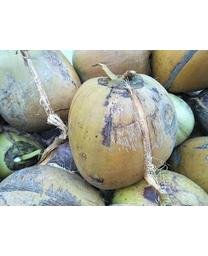coconut: (67, 74, 178, 190)
